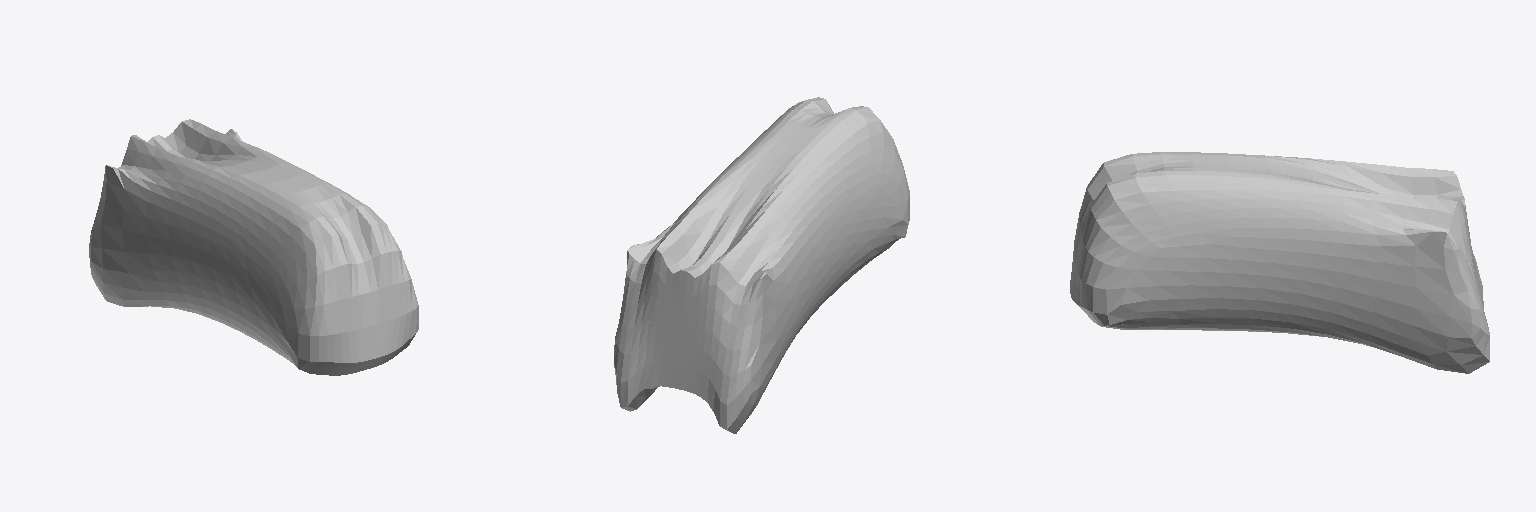
The model's file is rearlargetoe4obj.obj.
The picture shows the model from 3 angles: view 1: azimuth 30°, elevation 25°; view 2: azimuth 150°, elevation 25°; view 3: azimuth 270°, elevation 25°; orthographic projection.
Parts seen in each view (by area): view 1: Cube.166_Cube.168; view 2: Cube.166_Cube.168; view 3: Cube.166_Cube.168.
Boxes of the visible parts, <box> form: Cube.166_Cube.168: <box>89,119,418,375</box>; Cube.166_Cube.168: <box>614,97,909,433</box>; Cube.166_Cube.168: <box>1070,152,1489,373</box>.
Size of the model in its own units: 0.027 by 0.034 by 0.0664.